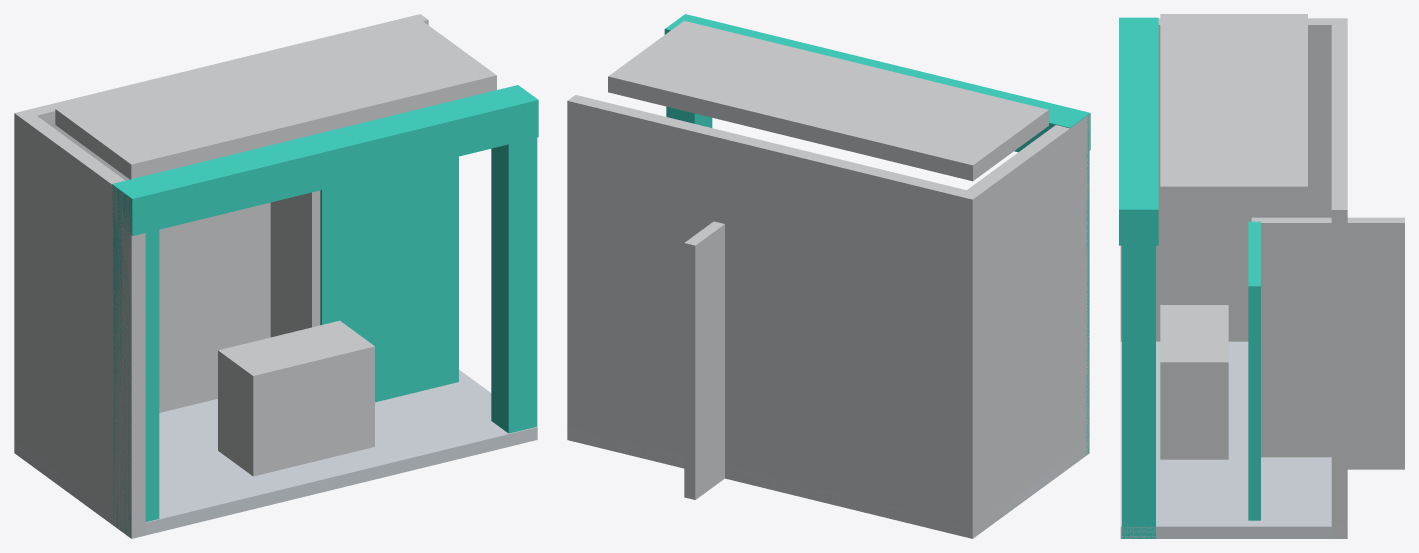
3 views of the same model, side by side, from view 1: azimuth 30°, elevation 25°; view 2: azimuth 150°, elevation 25°; view 3: azimuth 270°, elevation 25° (orthographic). The views are drawn at different scales.
Visible parts, largest first — view 1: Exhibition Booth Concept; view 2: Exhibition Booth Concept; view 3: Exhibition Booth Concept.
Part boxes in pixels (x1,y1,x2,y2): Exhibition Booth Concept: (14, 14, 538, 538); Exhibition Booth Concept: (567, 14, 1090, 538); Exhibition Booth Concept: (1119, 14, 1404, 538).
Bounding box in the file's own units: 4 × 3.34 × 2.52.
